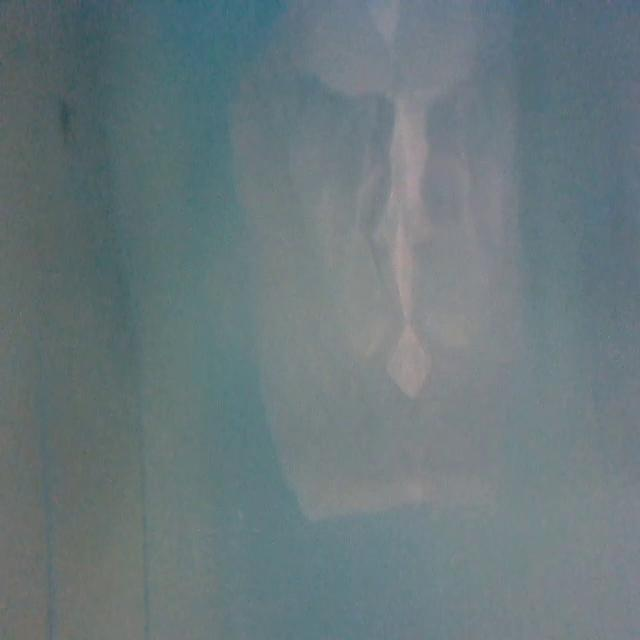plastic bottle: (253, 0, 511, 549)
